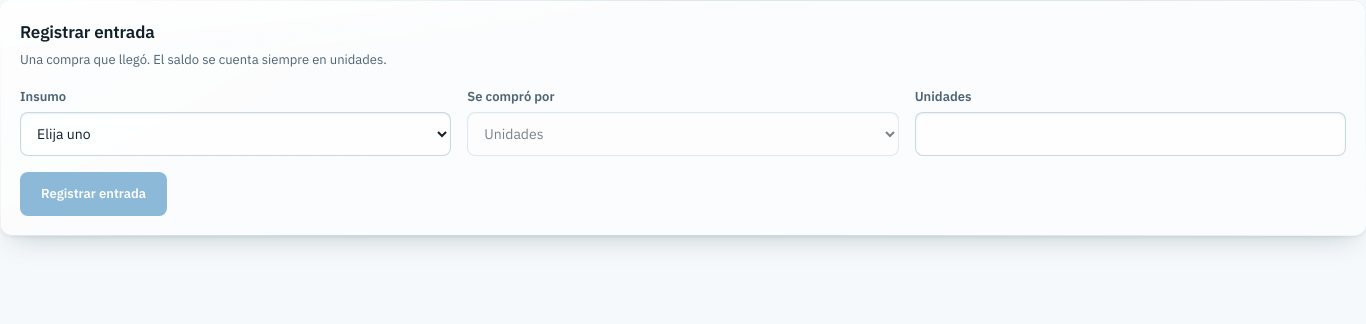
it: EntradaDeInsumo — la conversión se muestra antes de confirmar › redondea a unidades enteras: media tapa no existe
The width and height of the screenshot is (1366, 324).
Select "TAP — Tapas" in the dropdown labelled "Insumo" at (236, 134), box [20,112,451,156]
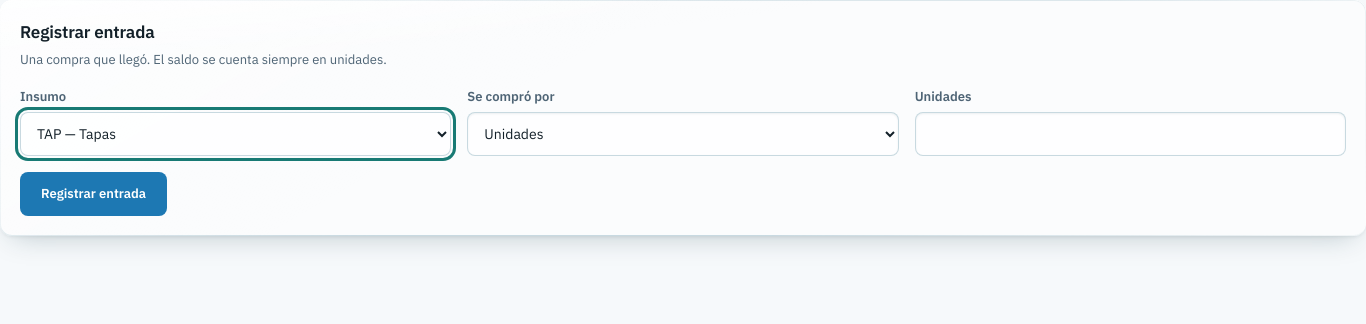
Select "Kilos" in the dropdown labelled "Se compró por" at (683, 134), box [467,112,899,156]
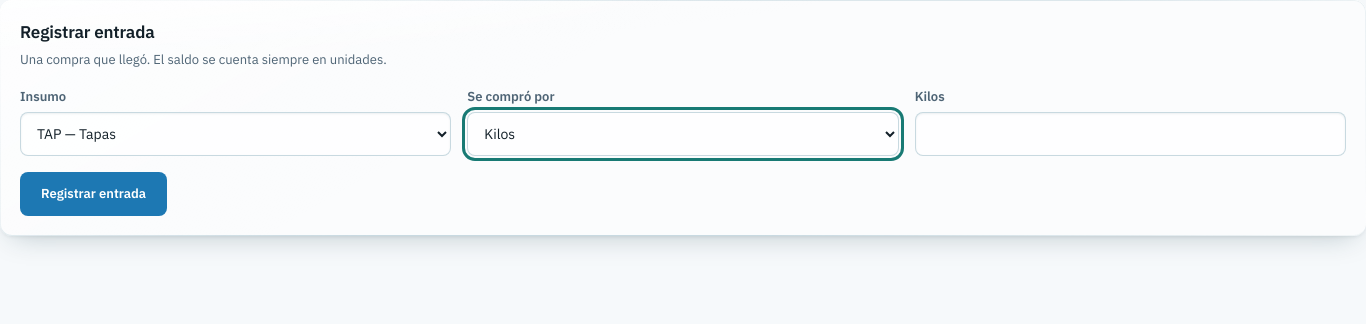
Type "2.5" into the number field labelled "Kilos" at (1130, 134), box [915,112,1346,156]
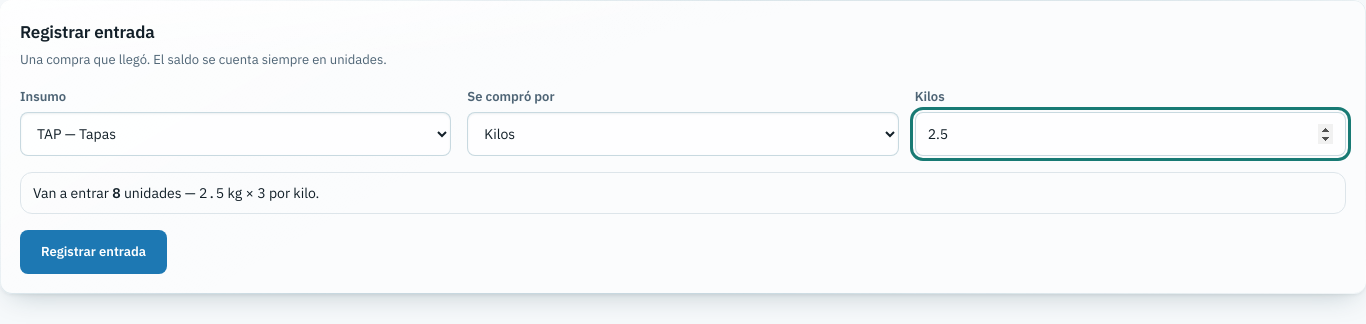
Now the text "Van a entrar 8 unidades — 2.5 kg × 3 por kilo." is shown, box [20,172,1346,214]
